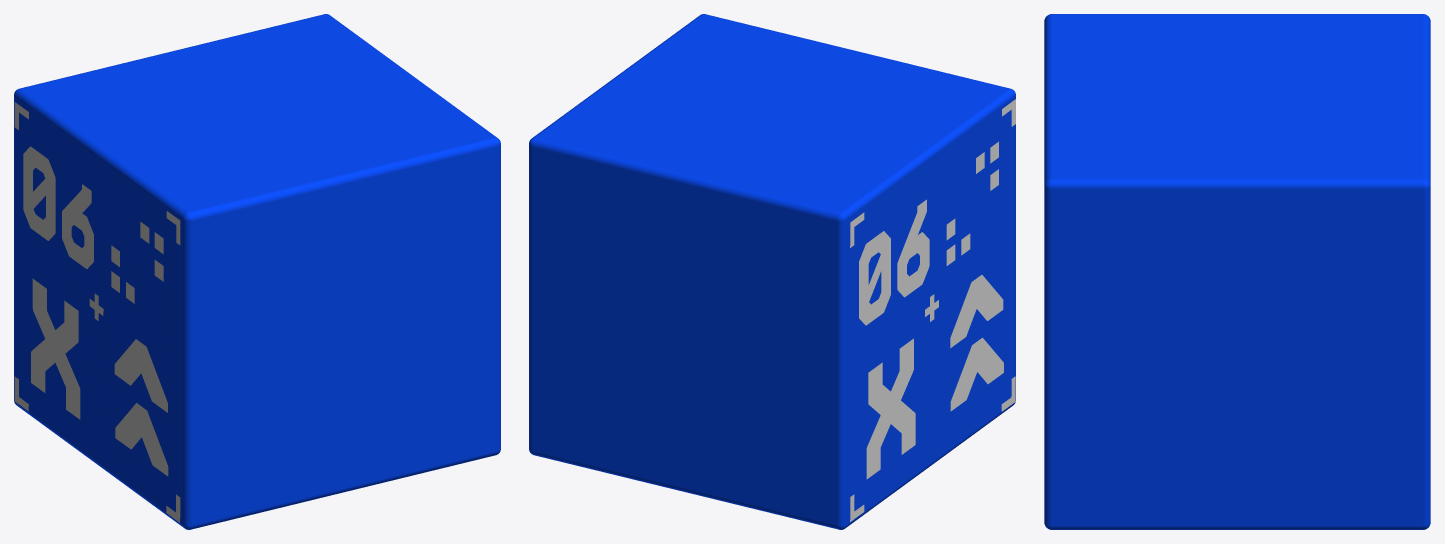
The picture shows the model from 3 angles, left to right: view 1: azimuth 30°, elevation 25°; view 2: azimuth 150°, elevation 25°; view 3: azimuth 270°, elevation 25°; orthographic projection. The views are drawn at different scales.
Visible parts, largest first — view 1: Cube.013, Text.007, Text, Text.049, Text.060, Text.041; view 2: Cube.013, Text.007, Text, Text.049, Text.060, Text.041; view 3: Cube.013.
Boxes of the visible parts, x1,y1,x2,y2 form: Cube.013: [14, 14, 500, 529]; Text.007: [23, 146, 93, 268]; Text: [32, 278, 80, 419]; Text.049: [115, 403, 168, 476]; Text.060: [114, 339, 167, 412]; Text.041: [31, 300, 78, 392]; Cube.013: [529, 14, 1015, 529]; Text.007: [859, 199, 929, 325]; Text: [868, 362, 915, 454]; Text.049: [950, 337, 1003, 411]; Text.060: [950, 275, 1003, 348]; Text.041: [866, 338, 913, 479]; Cube.013: [1044, 14, 1430, 529].
Size of the model in its own units: 209 by 199 by 199.
